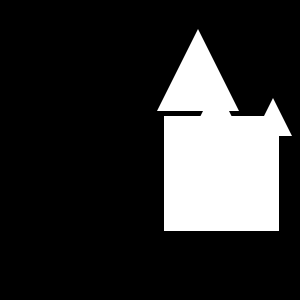circle: (164, 116, 279, 231)
triangle: (172, 85, 260, 173), (157, 29, 239, 111), (254, 98, 292, 136)
